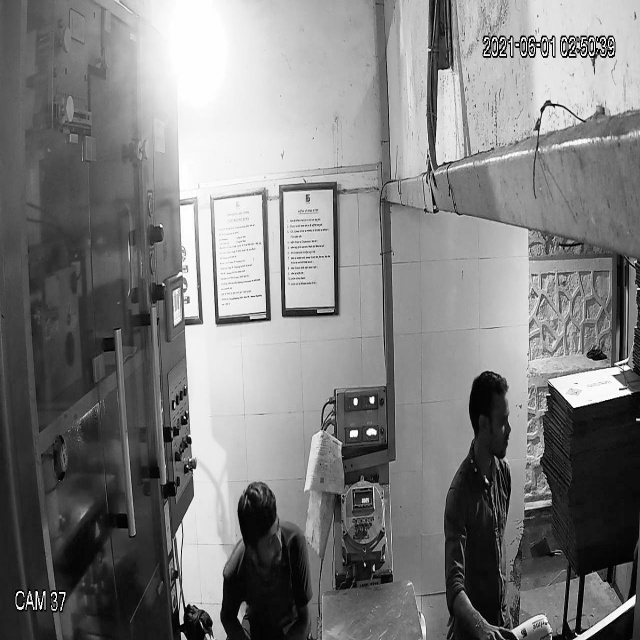Sin_gafas: (467, 410, 516, 441)
